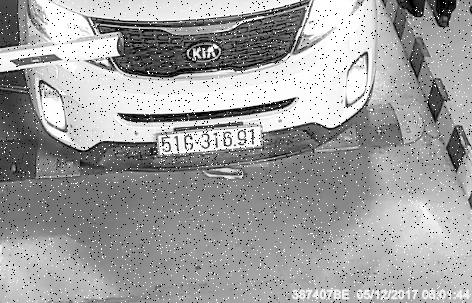License-plate: (154, 122, 270, 168)
